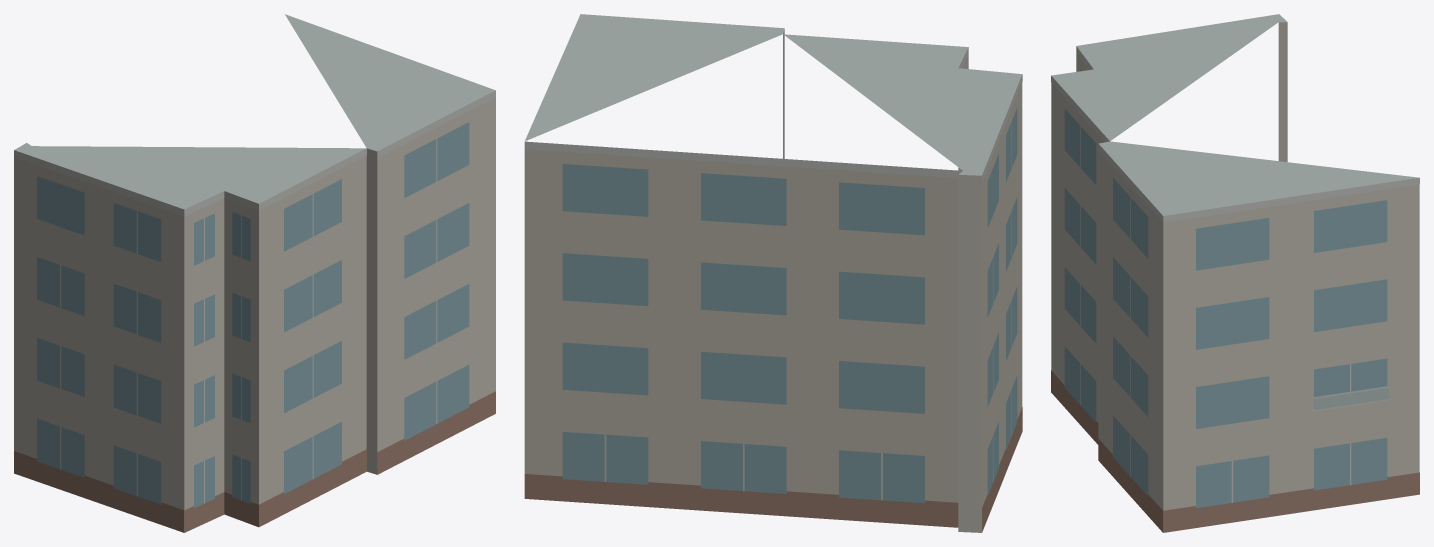
Rendered from survey-upis-33019436.glb.
The picture shows the model from 3 angles, left to right: view 1: azimuth 30°, elevation 25°; view 2: azimuth 150°, elevation 25°; view 3: azimuth 270°, elevation 25°; orthographic projection. The views are drawn at different scales.
Visible parts, largest first — view 1: survey-upis-33019436.tmp; view 2: survey-upis-33019436.tmp; view 3: survey-upis-33019436.tmp.
Boxes of the visible parts, x1,y1,x2,y2 form: survey-upis-33019436.tmp: (14,14,495,532); survey-upis-33019436.tmp: (524,14,1022,532); survey-upis-33019436.tmp: (1051,14,1419,532).
Bounding box in the file's own units: 15.6 × 11.4 × 12.03.
